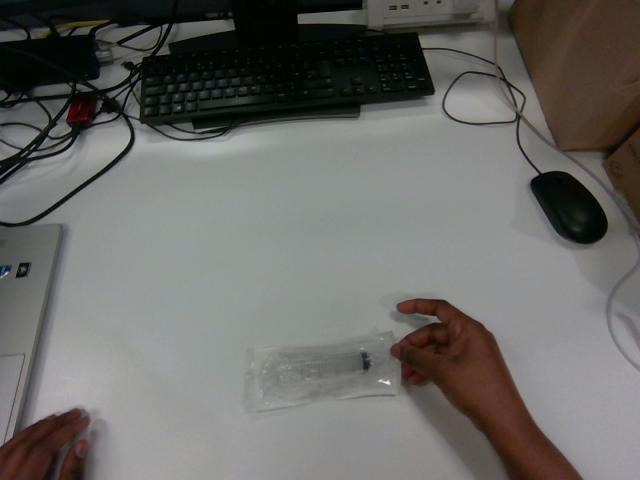syringe: (245, 332, 400, 411)
